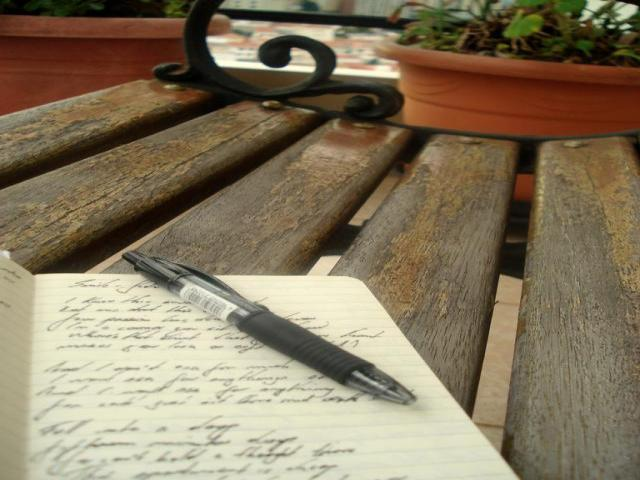PEN: (109, 236, 421, 412)
